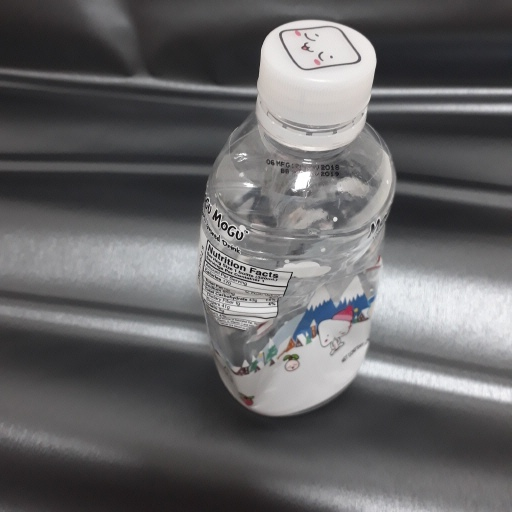Plastic_0: (194, 18, 398, 419)
